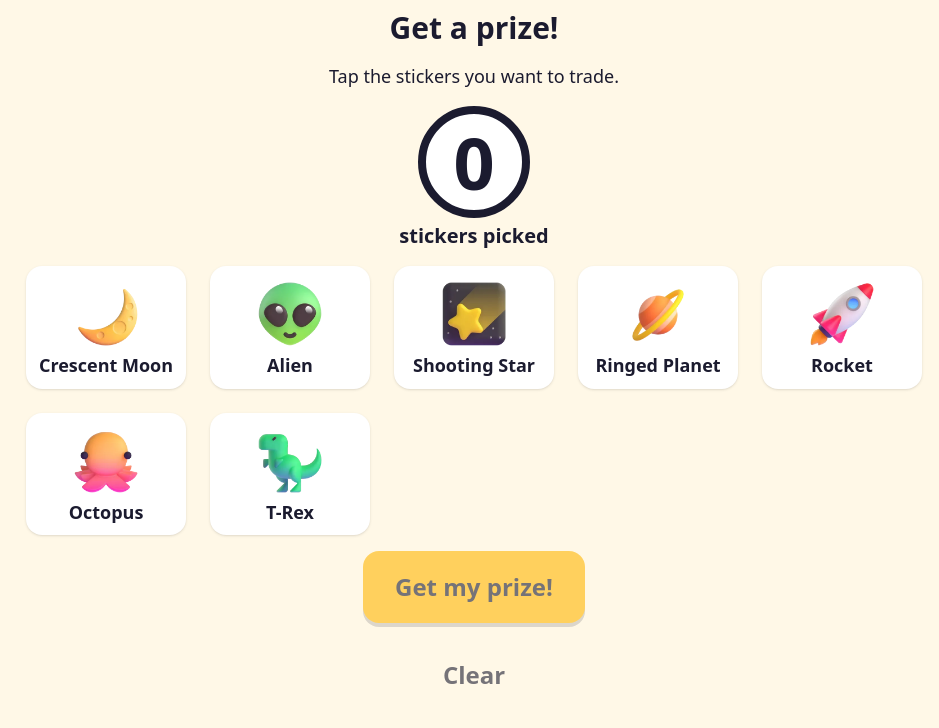
Test: GetPrizeScreen › toggles selection and updates counter; submit disabled at 0
The width and height of the screenshot is (939, 728).
Expected: the button "Get my prize!" is disabled, [363,551,585,623]
Click the button "Crescent Moon" at (106, 327), box [26,266,186,388]
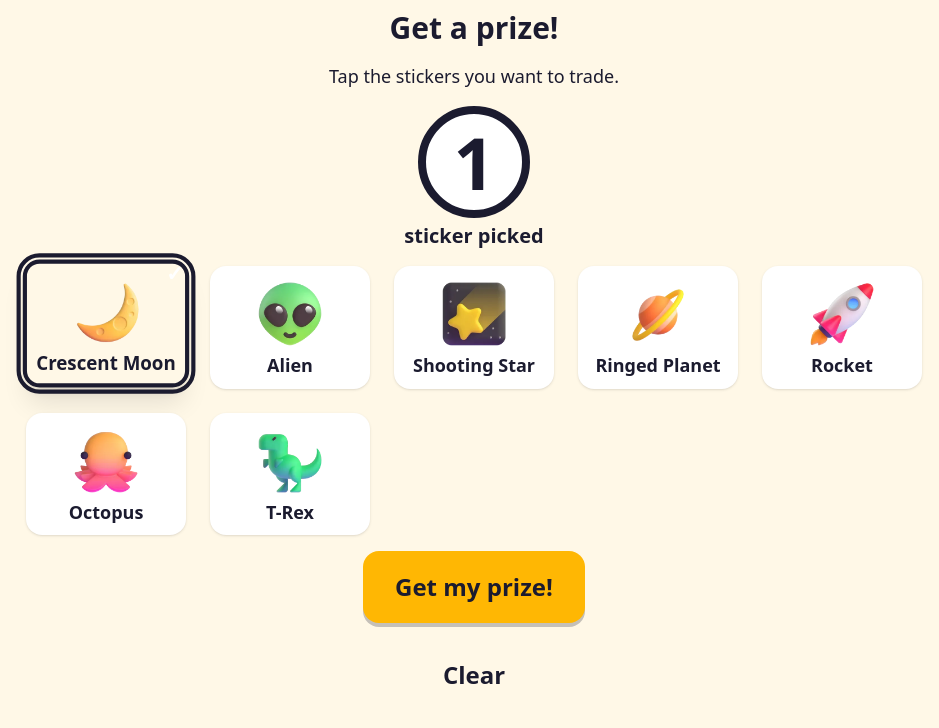
Click the button "Alien" at (290, 327), box [210,266,370,388]
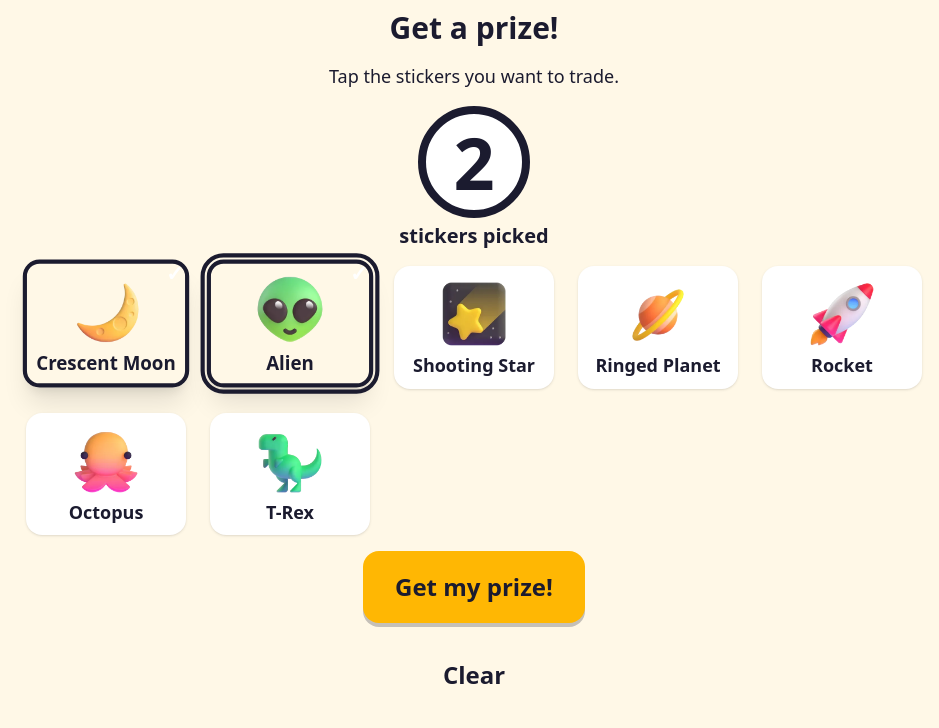
Expected: the text "2" is shown, [418,106,530,218]
Now the button "Get my prize!" is enabled, box [363,551,585,623]
Click the button "✓ Crescent Moon" at (106, 323), box [23,260,189,387]
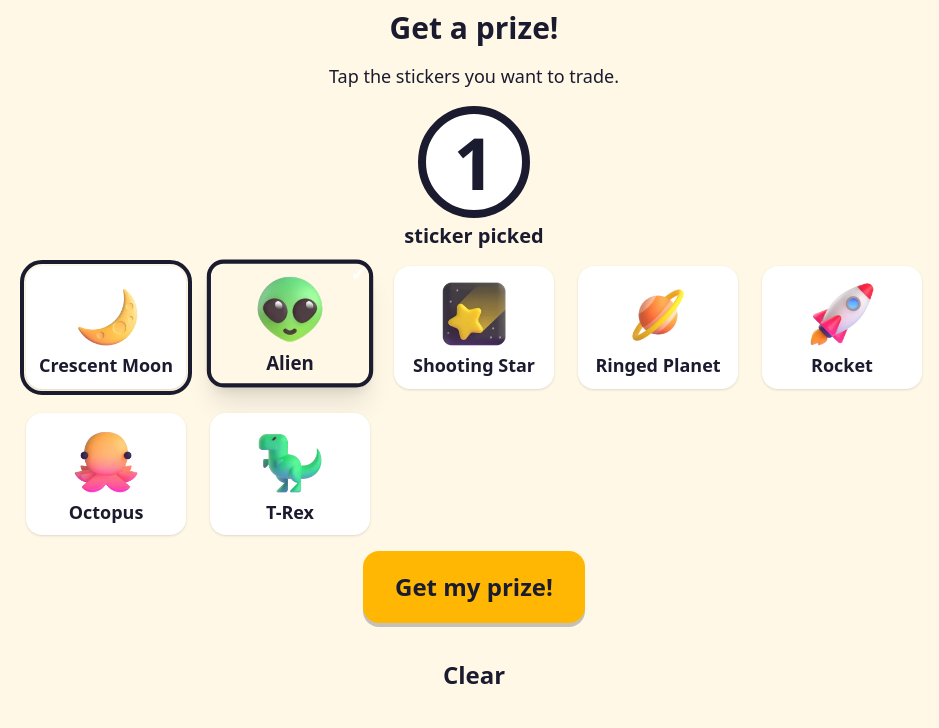
Now the button "Crescent Moon" is not pressed, box [26,266,186,388]
Click the button "Clear" at (474, 675), box [411,639,537,711]
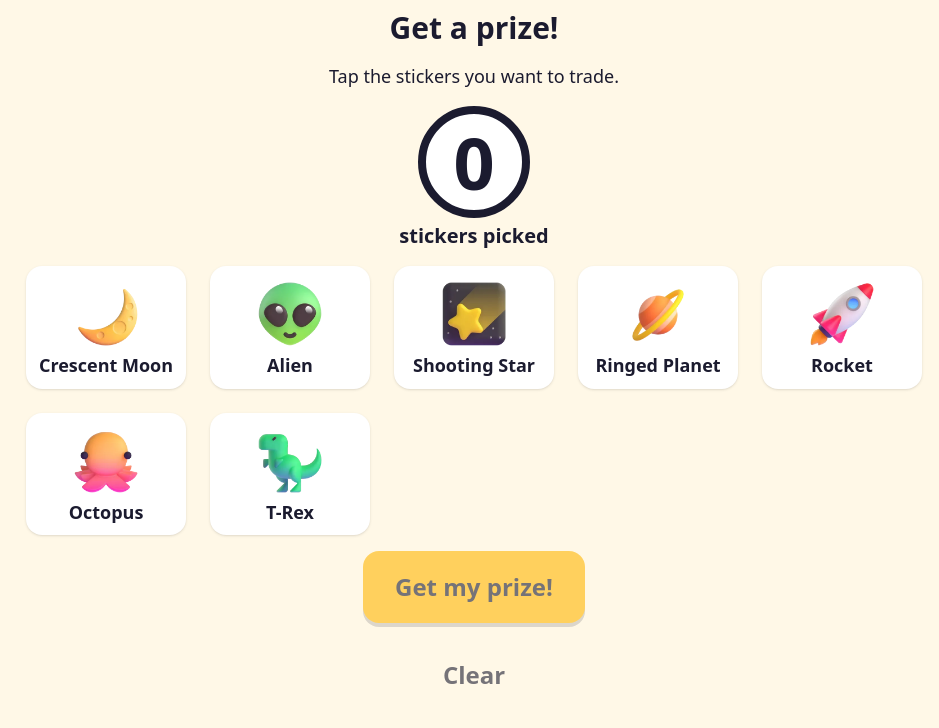
Now the button "Get my prize!" is disabled, box [363,551,585,623]
